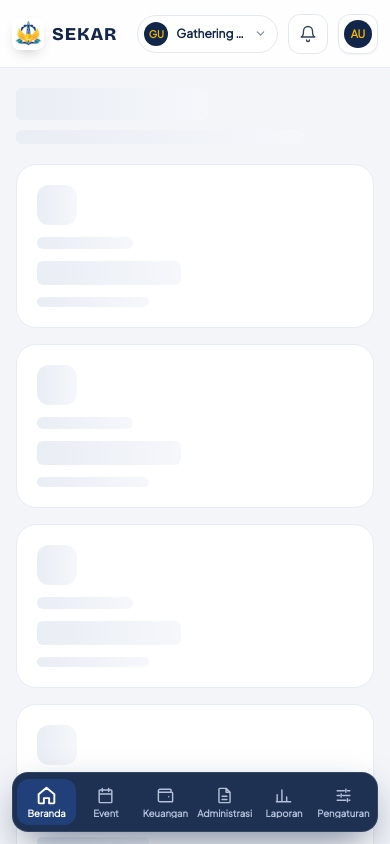
Test: sesi › menu profil mobile bisa dibuka dan memiliki tombol Keluar untuk logout di mobile view
The width and height of the screenshot is (390, 844).
Click the button "AU" at (358, 34), box x1=338 y1=14 x2=378 y2=54
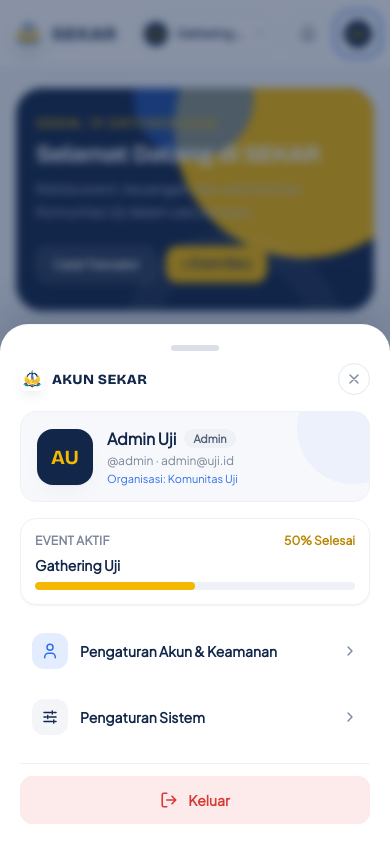
expect the dialog named "Profil Pengguna" is shown: met
expect the text "AKUN SEKAR" is shown: met, box x1=52 y1=370 x2=147 y2=388
expect the button "Keluar" is shown: met
Click the button "Keluar" at (195, 800), box x1=20 y1=776 x2=370 y2=824
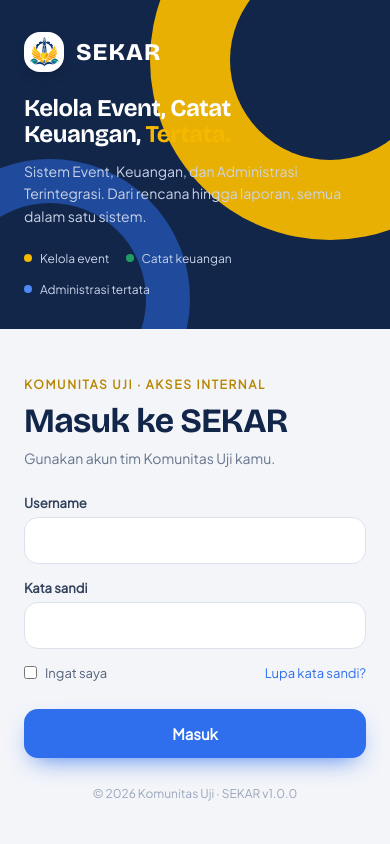
expect the heading "Masuk ke SEKAR" is shown: met, box x1=24 y1=400 x2=288 y2=441
